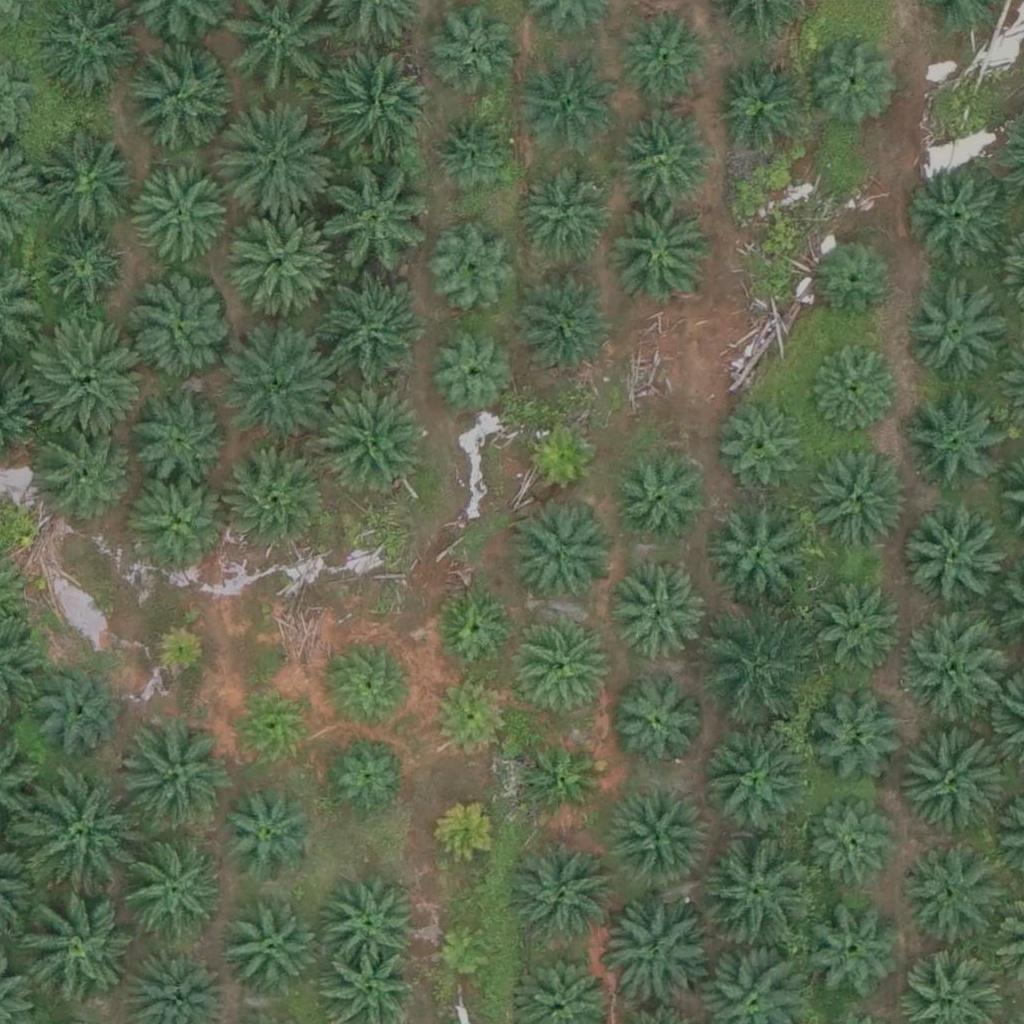Kelapa_Sawit: (506, 834, 619, 948), (224, 110, 337, 224), (702, 832, 815, 945), (604, 900, 717, 1013), (897, 615, 1010, 728), (700, 496, 813, 609), (701, 619, 814, 732), (318, 51, 431, 164), (311, 167, 424, 280), (22, 782, 135, 895), (896, 737, 1008, 851), (310, 282, 422, 396), (314, 386, 426, 500), (216, 443, 328, 557), (18, 891, 130, 1004), (224, 332, 336, 445), (224, 205, 336, 318), (116, 41, 228, 154), (31, 129, 143, 242), (31, 317, 143, 430), (119, 718, 231, 831), (605, 787, 705, 888), (319, 871, 419, 972), (213, 784, 313, 885), (220, 900, 320, 1001), (126, 840, 226, 941), (908, 389, 1008, 490), (807, 686, 907, 787), (614, 113, 714, 214), (610, 205, 710, 306), (611, 445, 711, 546), (611, 555, 711, 656), (604, 678, 704, 779), (515, 161, 615, 262), (516, 270, 616, 371), (509, 507, 609, 608), (508, 615, 608, 716), (130, 167, 230, 268), (130, 279, 230, 380), (132, 388, 232, 489), (27, 427, 127, 528), (801, 792, 901, 892), (910, 167, 1010, 267), (900, 291, 1000, 391), (901, 504, 1001, 604), (709, 729, 809, 829), (811, 572, 911, 672), (810, 448, 910, 548), (517, 64, 617, 164), (132, 474, 232, 574), (902, 850, 1001, 951), (809, 339, 897, 428), (807, 905, 895, 993), (519, 411, 607, 499), (327, 639, 415, 727), (327, 731, 415, 819), (425, 671, 513, 759), (433, 582, 521, 670), (808, 42, 896, 130), (715, 402, 803, 490), (620, 9, 708, 97), (428, 327, 516, 415), (432, 219, 520, 307), (35, 225, 123, 313), (40, 664, 128, 752), (228, 681, 315, 769), (811, 237, 898, 325), (716, 65, 803, 153), (518, 731, 605, 819), (430, 111, 517, 199), (430, 6, 517, 94), (430, 793, 505, 869), (145, 622, 208, 685), (435, 922, 497, 985)
